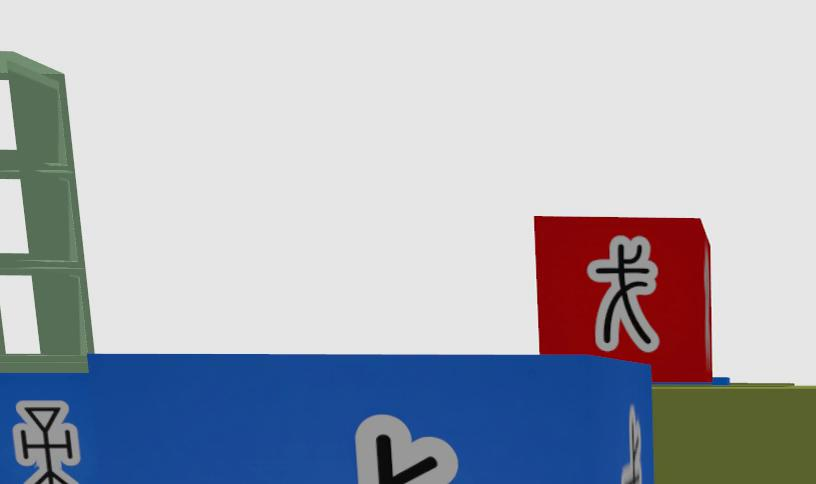KFS_FAKE: (534, 217, 711, 383), (588, 236, 658, 351)
KFS_REAL: (90, 355, 658, 484), (0, 373, 105, 484), (355, 415, 456, 484), (14, 400, 82, 484), (621, 405, 642, 484)
